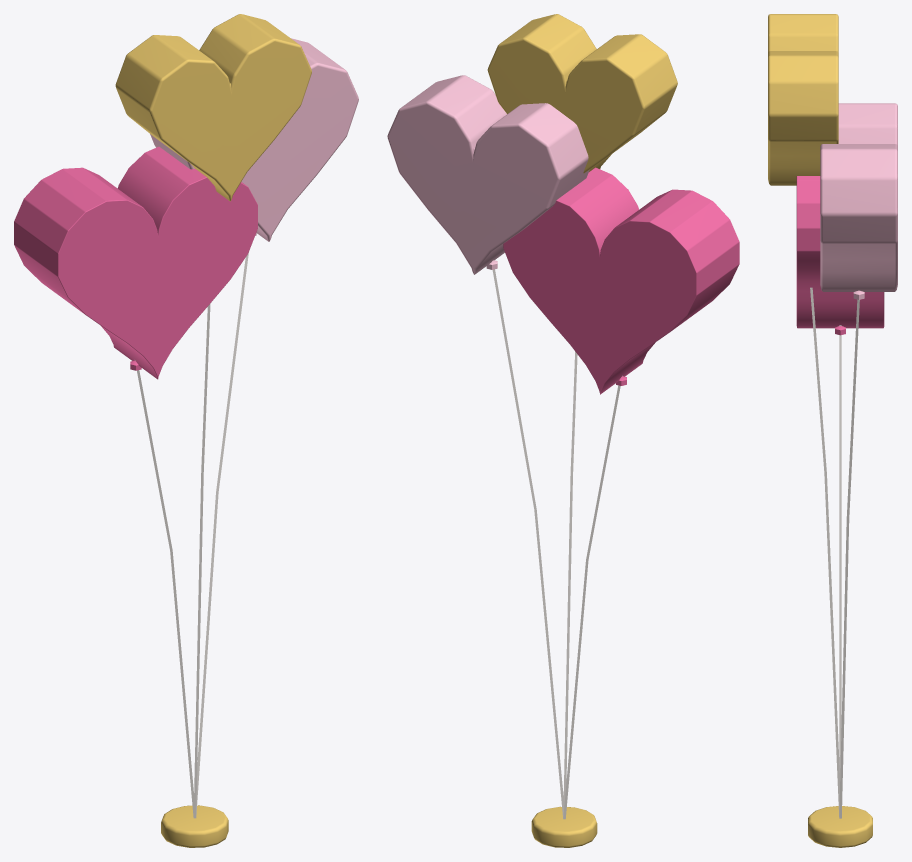
The model's file is balloons_hearts.glb.
The picture shows the model from 3 angles, left to right: view 1: azimuth 30°, elevation 25°; view 2: azimuth 150°, elevation 25°; view 3: azimuth 270°, elevation 25°; orthographic projection. The views are drawn at different scales.
Parts seen in each view (by area): view 1: balloons_hearts; view 2: balloons_hearts; view 3: balloons_hearts.
Part boxes in pixels (x1=…): balloons_hearts: x1=14, y1=14, x2=358, y2=847; balloons_hearts: x1=387, y1=14, x2=739, y2=847; balloons_hearts: x1=768, y1=14, x2=897, y2=847.
Size of the model in its own units: 0.9593 by 2.37 by 0.3495.
